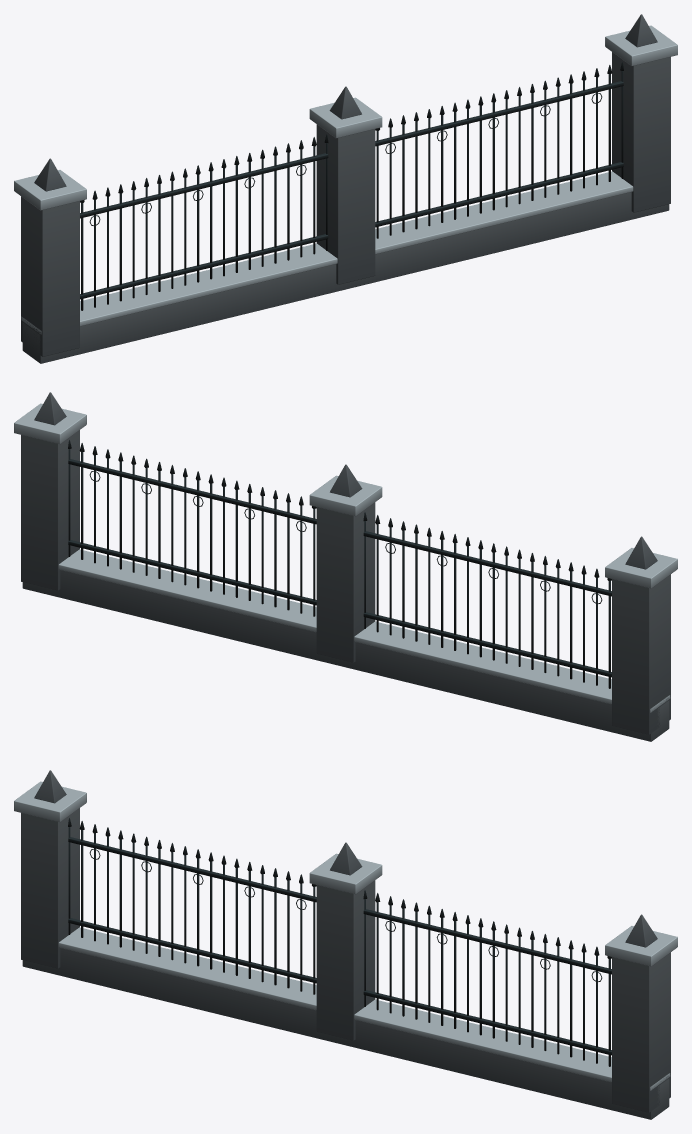
File: iron_fence.glb
3 renders of one model, top to bottom at view 1: azimuth 30°, elevation 25°; view 2: azimuth 150°, elevation 25°; view 3: azimuth 330°, elevation 25°, orthographic.
Visible parts, largest first — view 1: iron_fence; view 2: iron_fence; view 3: iron_fence.
Boxes of the visible parts, x1=… form: iron_fence: x1=14, y1=14, x2=677, y2=363; iron_fence: x1=14, y1=392, x2=677, y2=741; iron_fence: x1=14, y1=770, x2=677, y2=1119.
Bounding box in the file's own units: 10.14 × 2.96 × 0.74.
1 material, 1 textured.
